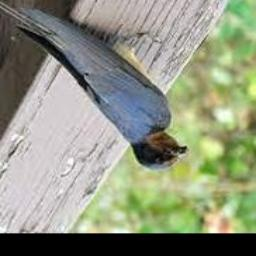Swallow: (0, 0, 187, 172)
